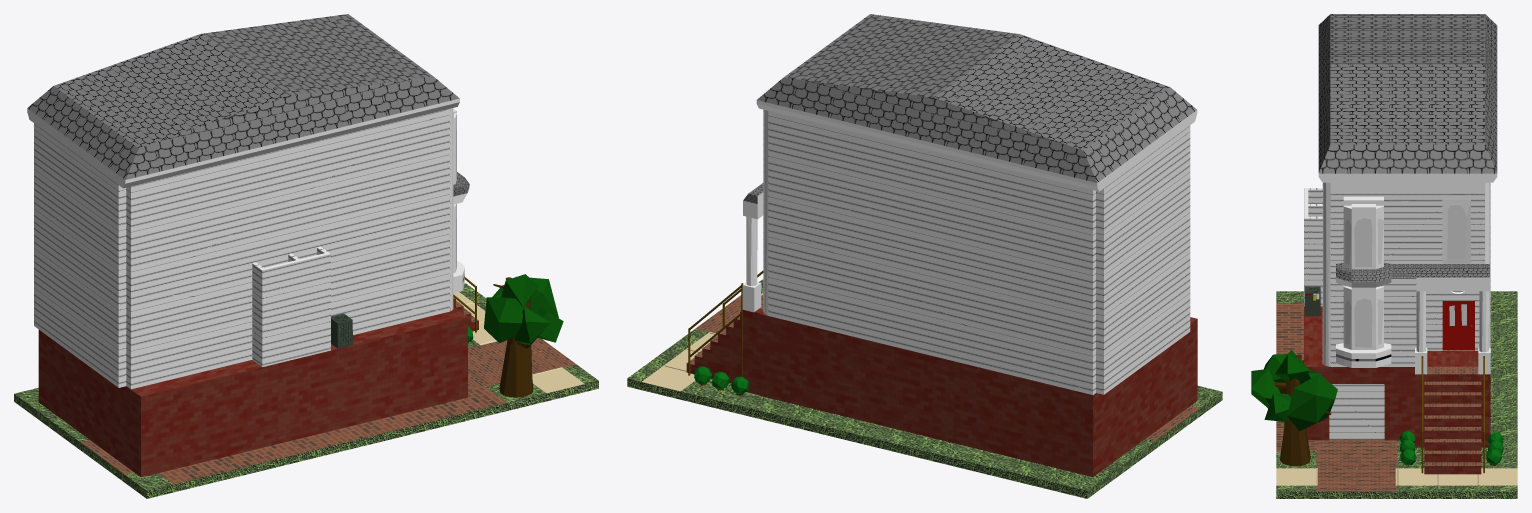
Rendered from Full House.glb.
3 views of the same model, side by side, from view 1: azimuth 30°, elevation 25°; view 2: azimuth 150°, elevation 25°; view 3: azimuth 270°, elevation 25° (orthographic). The views are drawn at different scales.
Visible parts, largest first — view 1: Ext Walls, Roof, Foundation, Ground, 1st Flr Walls, Leaves, Trunk, Windows, Border Columns, CU; view 2: Ext Walls, Roof, Foundation, Ground, Pillars, Border Columns, Railings, Shrubs; view 3: Roof, Ground, Foundation, Ext Walls, Windows, Leaves, 1st Flr Walls, Garage Door, Border Columns, Pillars, Door, Trunk (+3 smaller).
Part boxes in pixels (x1,y1,x2,y2): Ext Walls: [34, 109, 450, 389]; Roof: [27, 14, 459, 188]; Foundation: [38, 297, 478, 477]; Ground: [14, 283, 598, 498]; 1st Flr Walls: [252, 246, 330, 366]; Leaves: [484, 274, 563, 345]; Trunk: [493, 277, 533, 397]; Windows: [453, 108, 469, 292]; Border Columns: [450, 108, 453, 310]; CU: [331, 313, 352, 348]; Ext Walls: [763, 110, 1190, 394]; Roof: [756, 14, 1197, 191]; Foundation: [686, 294, 1197, 476]; Ground: [627, 279, 1222, 498]; Pillars: [742, 216, 761, 312]; Border Columns: [763, 110, 768, 315]; Railings: [688, 270, 763, 376]; Shrubs: [694, 366, 748, 395]; Roof: [1318, 14, 1497, 182]; Ground: [1276, 291, 1517, 498]; Foundation: [1304, 306, 1490, 474]; Ext Walls: [1322, 182, 1490, 366]; Windows: [1336, 196, 1489, 367]; Leaves: [1251, 350, 1337, 431]; 1st Flr Walls: [1304, 188, 1479, 350]; Garage Door: [1329, 384, 1384, 439]; Border Columns: [1323, 182, 1490, 366]; Pillars: [1415, 291, 1490, 374]; Door: [1442, 301, 1474, 350]; Trunk: [1267, 354, 1331, 465].
Bounding box in the file's own units: 17.9 × 13.06 × 10.06.
Materials: 21 (5 with a texture image).
